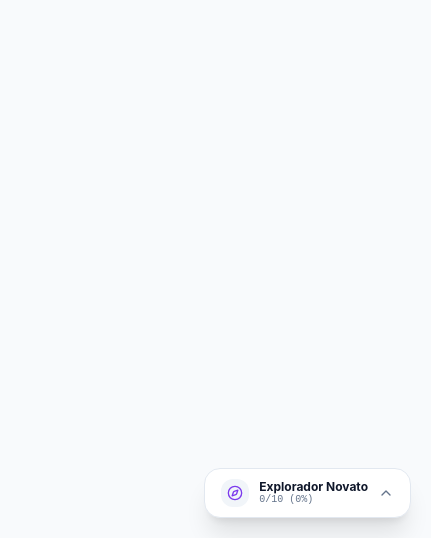
Test: ExplorerHud Component › expands hud details when clicked
Click the button with aria-label "abrir painel do explorador": click(308, 493) [204,468,411,518]
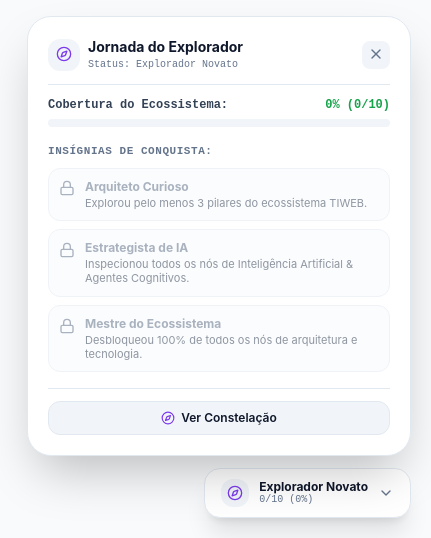
Expected: the heading "Jornada do Explorador" is shown, [88,37,243,57]
Expected: the text "Arquiteto Curioso" is shown, [85,178,189,194]
Expected: the text "Estrategista de IA" is shown, [85,240,188,256]
